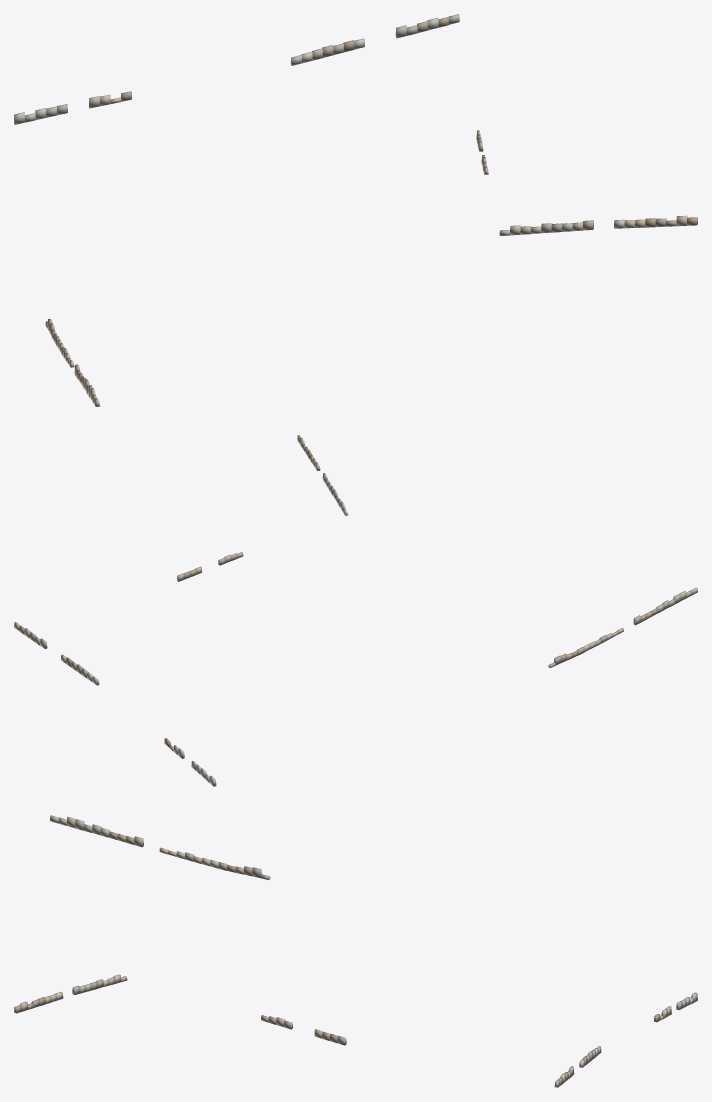
File: farm_-2_12_collision.glb
The picture shows the model from 3 angles, top to bottom: view 1: azimuth 30°, elevation 25°; view 2: azimuth 150°, elevation 25°; view 3: azimuth 270°, elevation 25°; orthographic projection. The views are drawn at different scales.
Parts seen in each view (by area): view 1: geometry_0; view 2: geometry_0; view 3: geometry_0.
Part boxes in pixels (x1,y1,x2,y2): geometry_0: (14, 14, 697, 406); geometry_0: (14, 435, 697, 786); geometry_0: (14, 815, 697, 1087).
Bounding box in the file's own units: 113 × 21.39 × 119.
